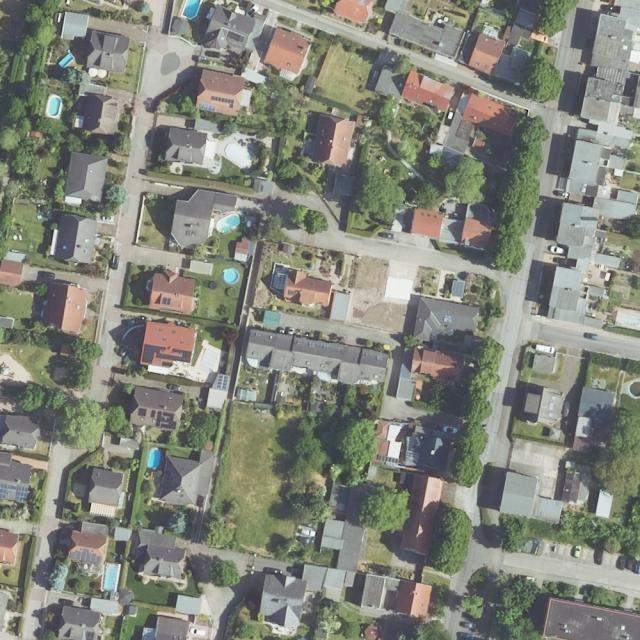PV: (142, 344, 192, 364), (138, 407, 177, 429), (69, 549, 101, 564), (403, 436, 419, 459), (211, 96, 234, 108), (16, 485, 28, 503), (216, 374, 229, 389), (377, 455, 398, 464), (0, 483, 8, 500), (161, 298, 171, 305)
ST: (226, 30, 245, 43)
